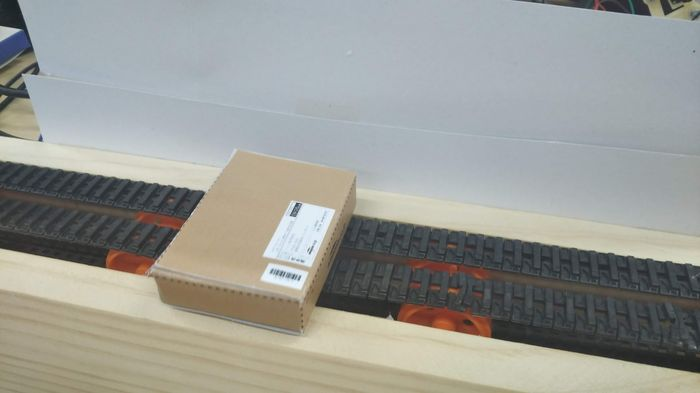box2: (145, 144, 360, 338)
